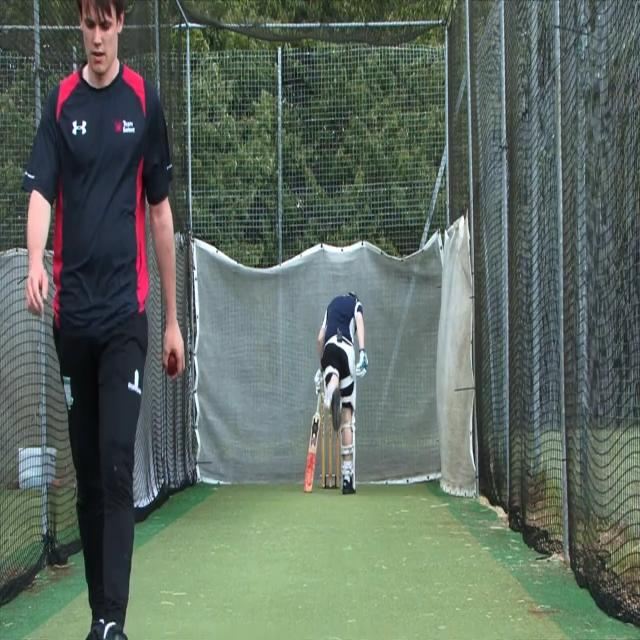batsman: (302, 289, 370, 498)
